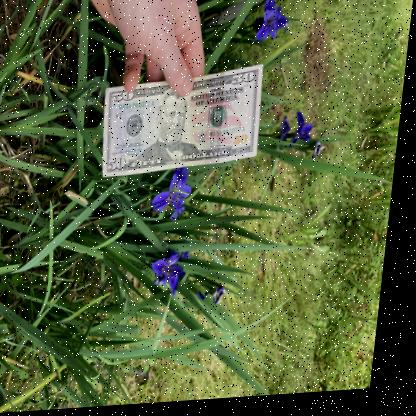fifty-front: (100, 56, 267, 178)
